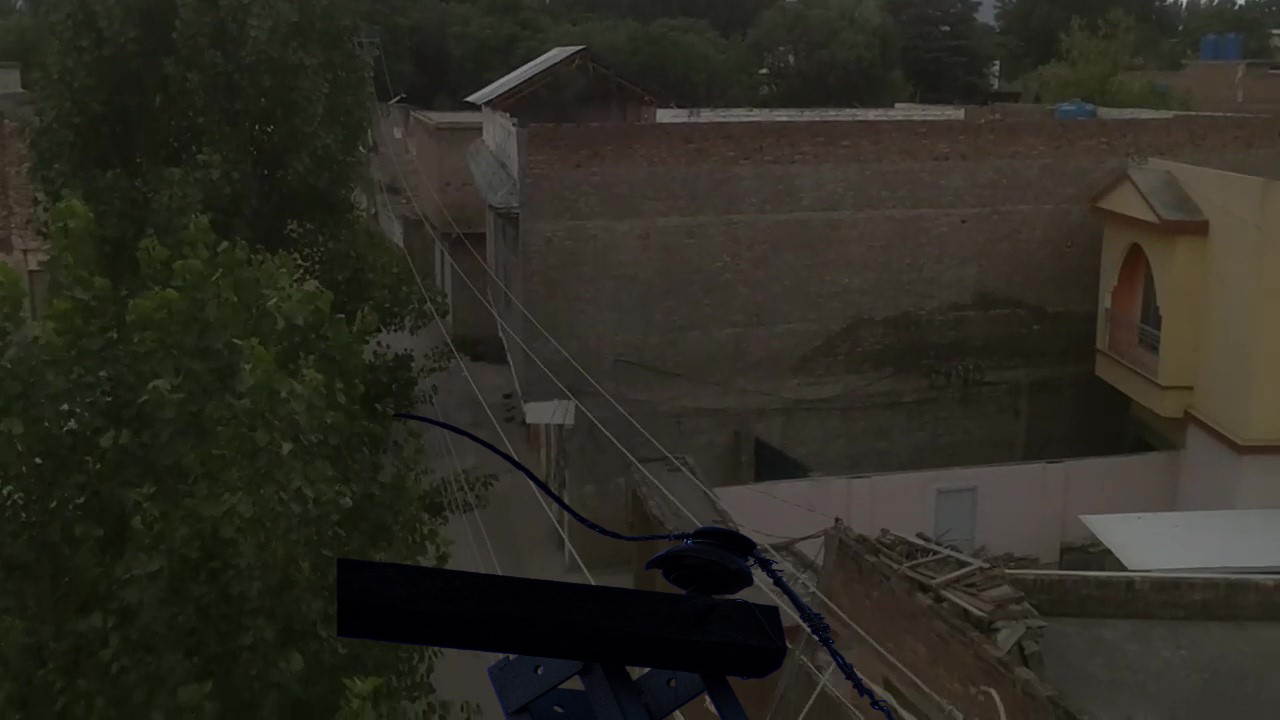defect_pin: (644, 523, 771, 606)
